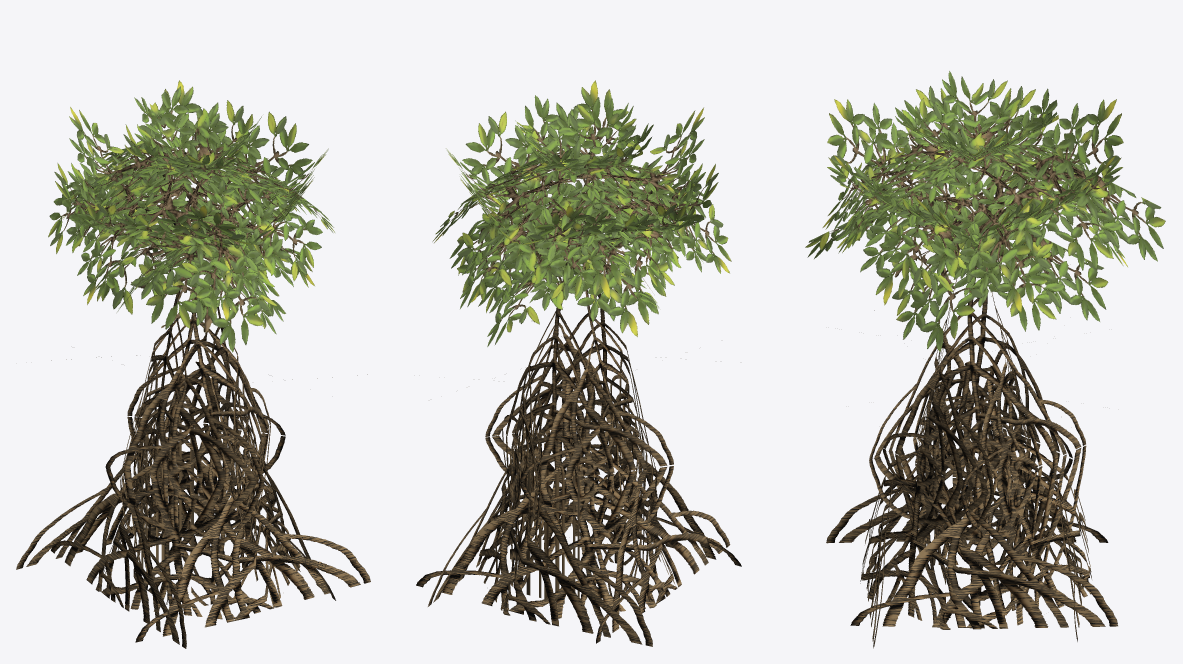
Rendered from mangrove_0.glb.
The picture shows the model from 3 angles, left to right: view 1: azimuth 30°, elevation 25°; view 2: azimuth 150°, elevation 25°; view 3: azimuth 270°, elevation 25°; orthographic projection. The views are drawn at different scales.
Visible parts, largest first — view 1: mangrove_0; view 2: mangrove_0; view 3: mangrove_0.
Boxes of the visible parts, box(x1,y1,x2,y2) form: mangrove_0: box(16, 80, 370, 648); mangrove_0: box(416, 80, 741, 646); mangrove_0: box(805, 71, 1165, 648).
Size of the model in its own units: 5.82 by 9.04 by 5.89.
Materials: 2 (2 with a texture image).
